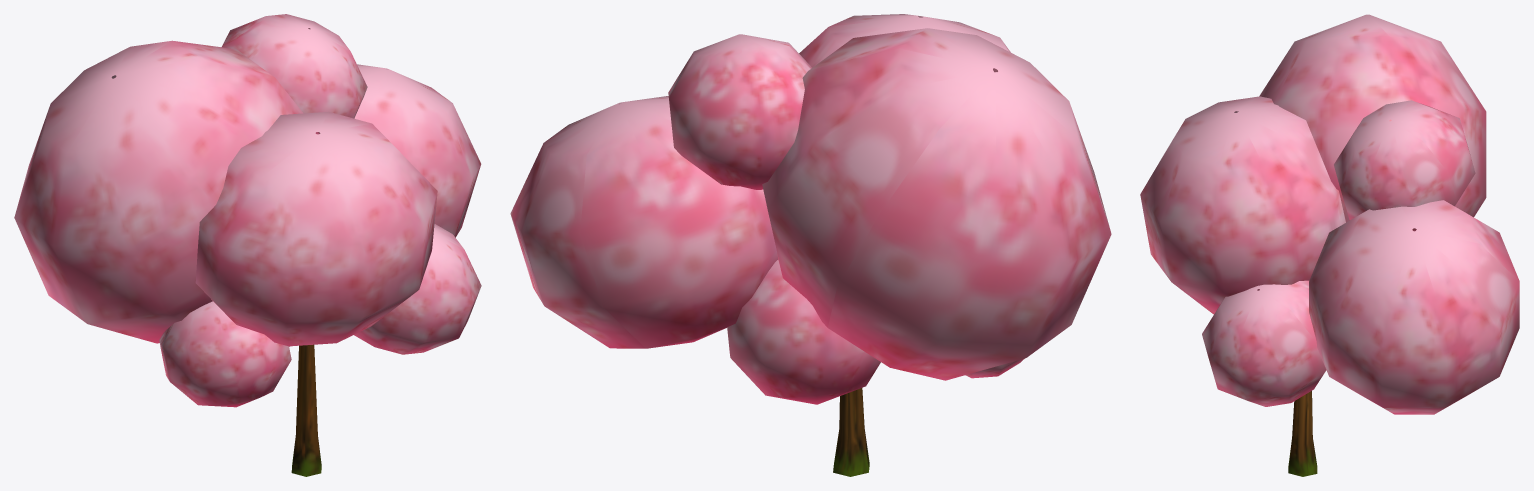
The model's file is sakura.FBX.
The picture shows the model from 3 angles, left to right: view 1: azimuth 30°, elevation 25°; view 2: azimuth 150°, elevation 25°; view 3: azimuth 270°, elevation 25°; orthographic projection. The views are drawn at different scales.
Visible parts, largest first — view 1: sakura; view 2: sakura; view 3: sakura.
Boxes of the visible parts, left/top/right/bottom form: sakura: left=14, top=14, right=481, bottom=476; sakura: left=510, top=14, right=1111, bottom=476; sakura: left=1140, top=14, right=1519, bottom=476.
Bounding box in the file's own units: 55024 × 48084 × 42162.
